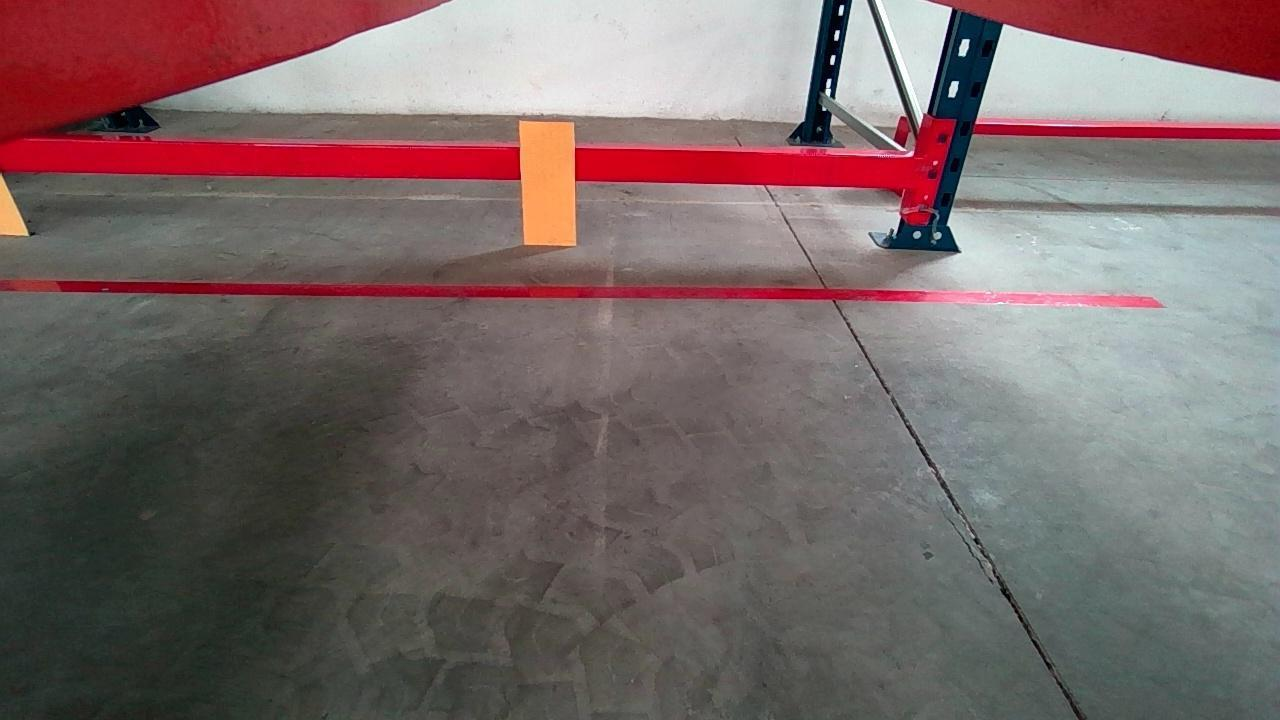h_rack: (2, 134, 926, 187)
orange_strip: (520, 119, 575, 245)
red_line: (0, 276, 1163, 309)
